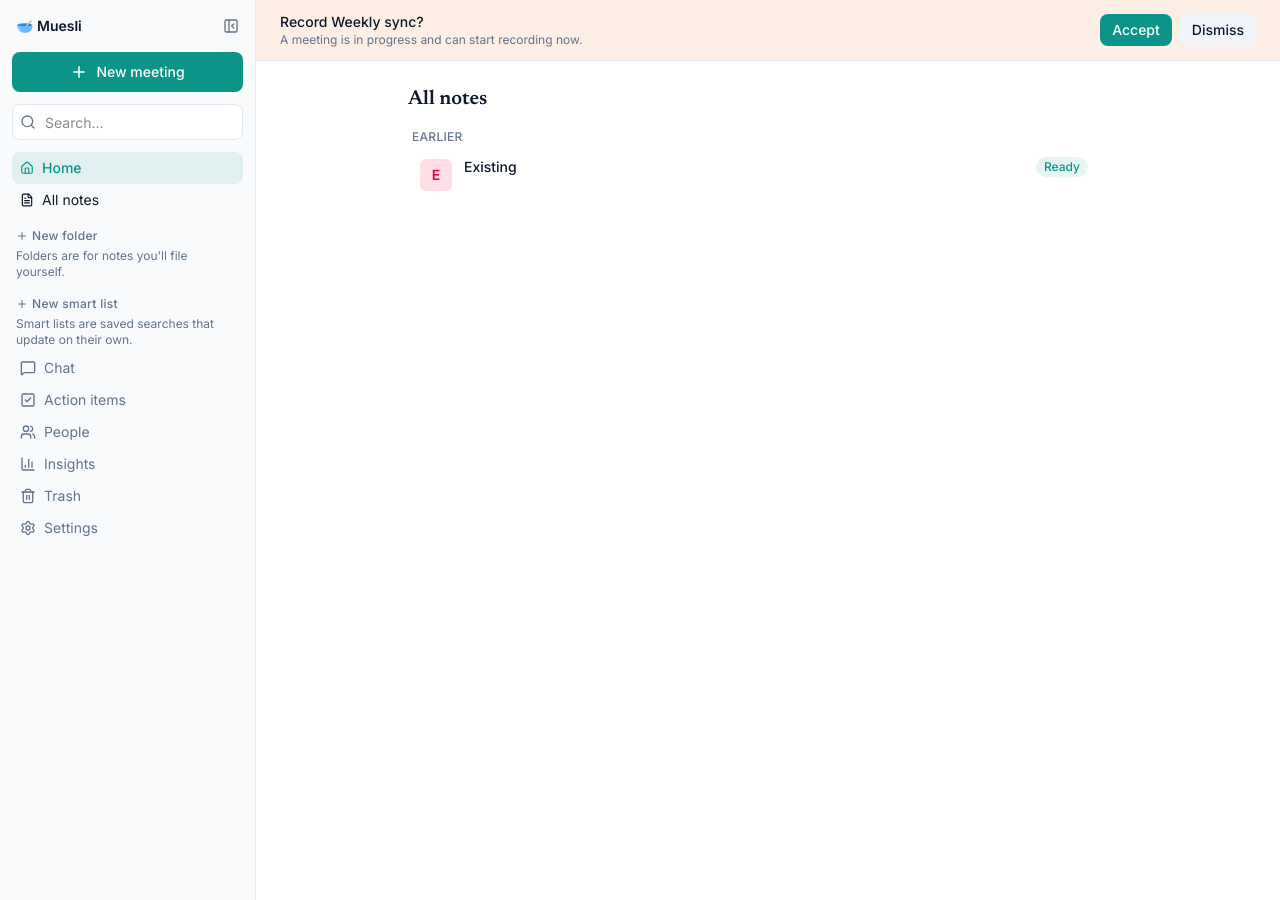
Test: AppLayout meeting detection loop › shows a record prompt, dismisses it, and suppresses the same occurrence on refocus
This screenshot has width=1280, height=900.
Expected: the text "Record Weekly sync?" is shown, [280, 13, 424, 30]
Click the button "Dismiss".
click(1218, 30)  # box [1180, 14, 1256, 46]
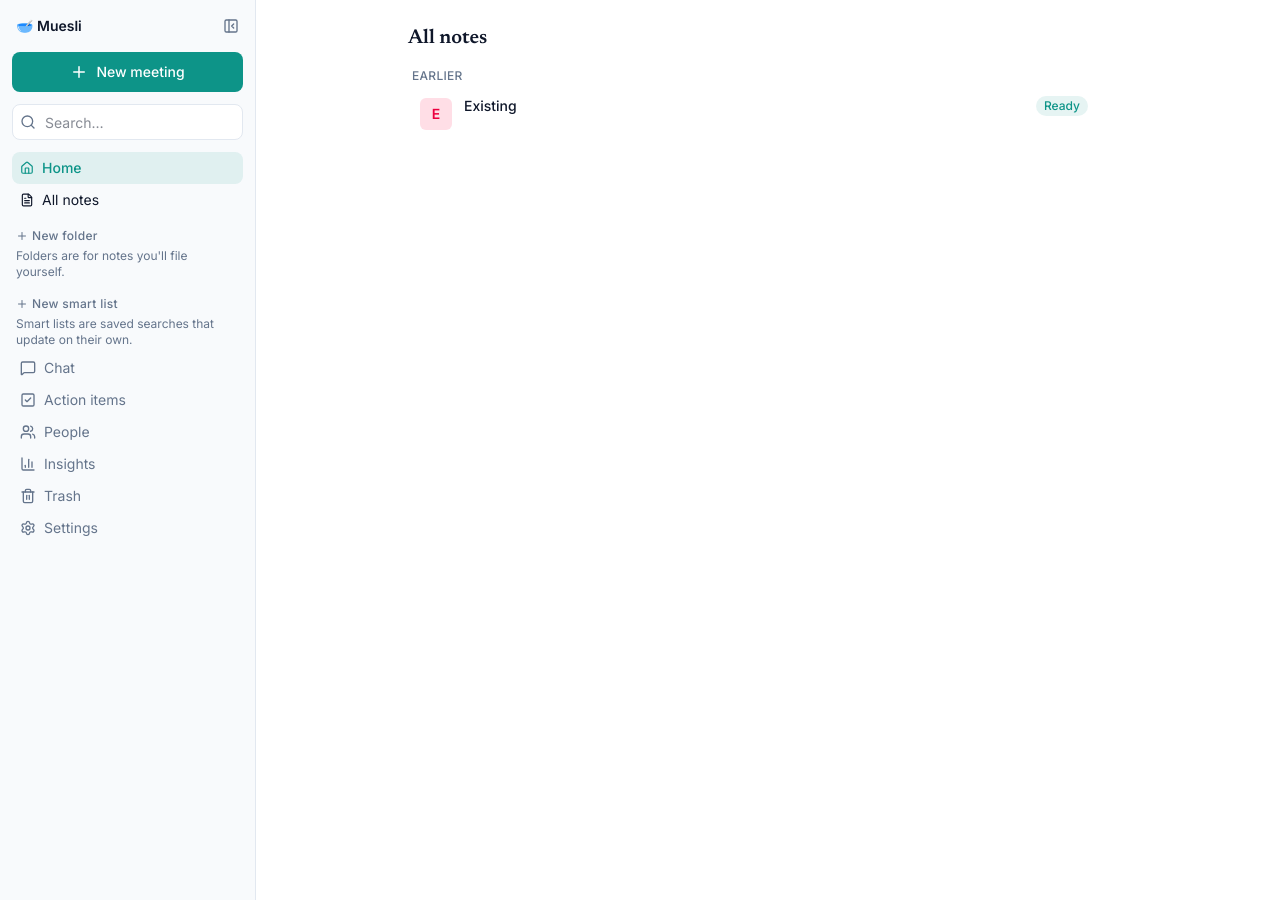
Result: the message is gone
Result: the text "Record Weekly sync?" is gone
